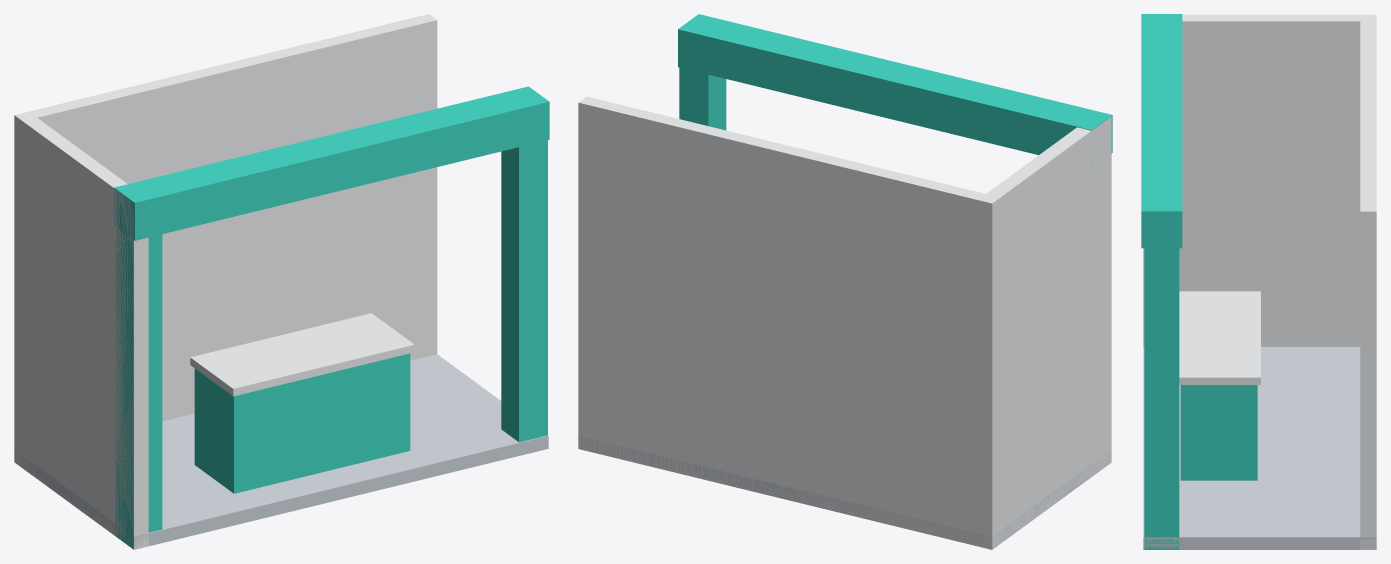
3 renders of one model, left to right at view 1: azimuth 30°, elevation 25°; view 2: azimuth 150°, elevation 25°; view 3: azimuth 270°, elevation 25°, orthographic. The views are drawn at different scales.
Visible parts, largest first — view 1: Exhibition Booth Concept; view 2: Exhibition Booth Concept; view 3: Exhibition Booth Concept.
Part boxes in pixels (x1=…): Exhibition Booth Concept: x1=14, y1=14, x2=549, y2=549; Exhibition Booth Concept: x1=578, y1=14, x2=1112, y2=549; Exhibition Booth Concept: x1=1141, y1=14, x2=1376, y2=549.
Size of the model in its own units: 4 by 3.2 by 2.01.
